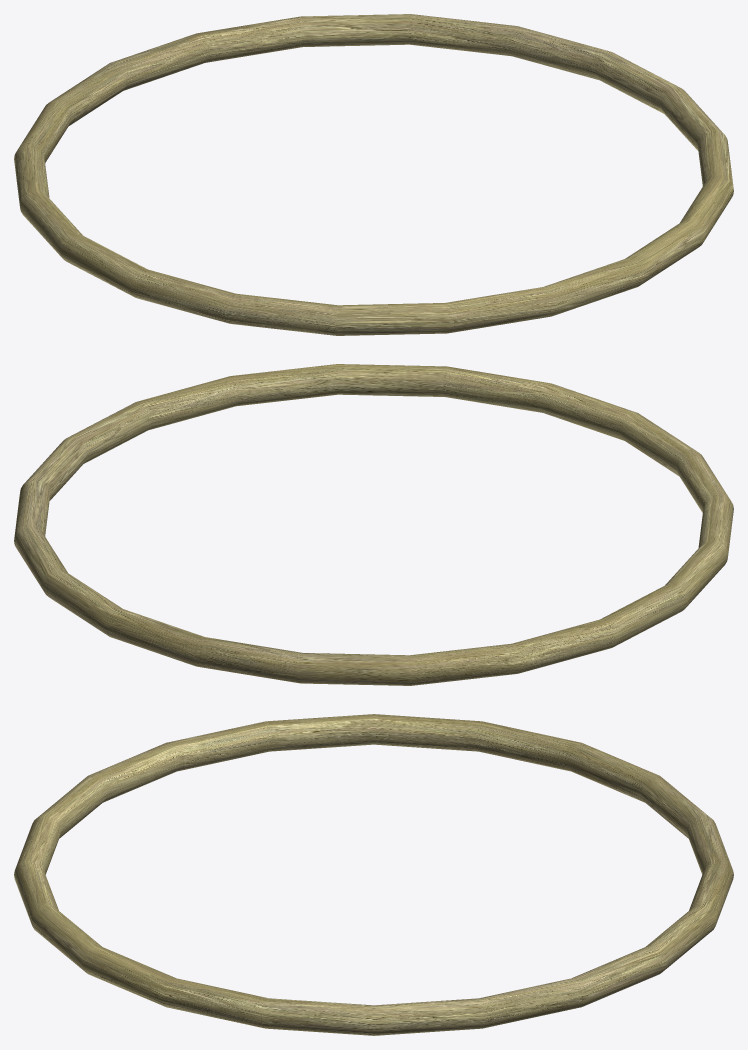
Rendered from arco.fbx.
3 renders of one model, top to bottom at view 1: azimuth 30°, elevation 25°; view 2: azimuth 150°, elevation 25°; view 3: azimuth 270°, elevation 25°, orthographic.
Visible parts, largest first — view 1: pTorus1; view 2: pTorus1; view 3: pTorus1.
Boxes of the visible parts, bbox=[...] form: pTorus1: bbox=[14, 14, 733, 335]; pTorus1: bbox=[14, 364, 733, 685]; pTorus1: bbox=[14, 714, 733, 1035].
Size of the model in its own units: 14.02 by 0.6 by 14.02.
Materials: 1 (1 with a texture image).
